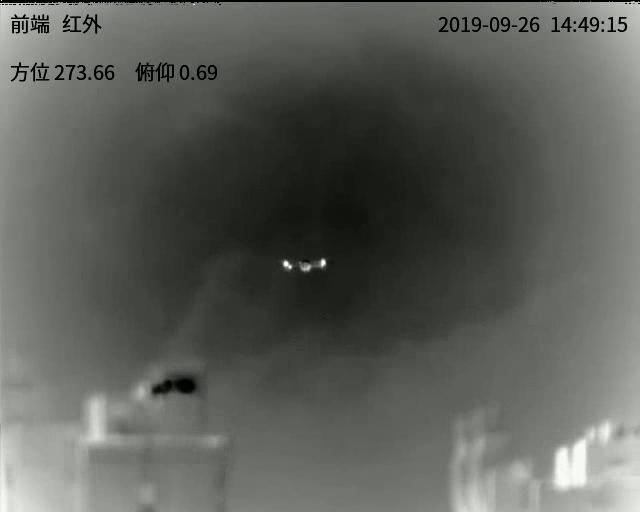DRONE: (282, 258, 327, 272)
